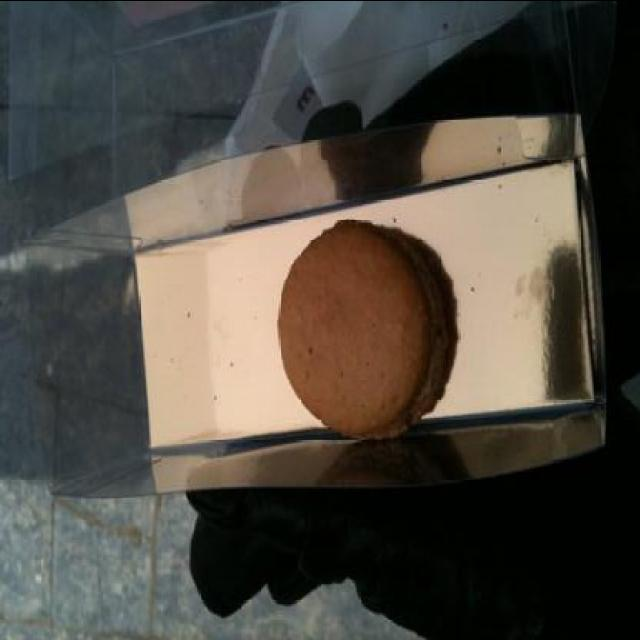Macaron: (270, 216, 468, 448)
